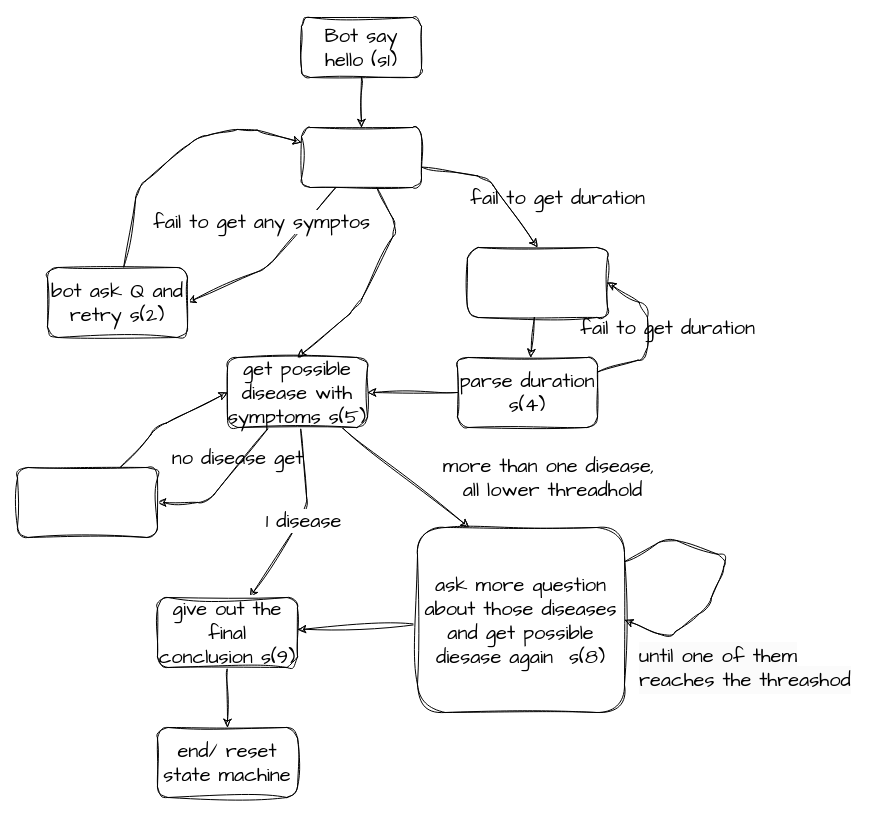
Image size: 885x815. Some labels were removed from this diagram. The shapes that lost their labels are listed below. From the top down, each one's box as (x1, y1, x2, y2) in pixels, then its label:
(300, 126, 422, 188): user input extract info
(466, 246, 608, 318): bot ask Q and retry s(3)
(16, 466, 158, 538): ask again and parse input s(6)s(7)
